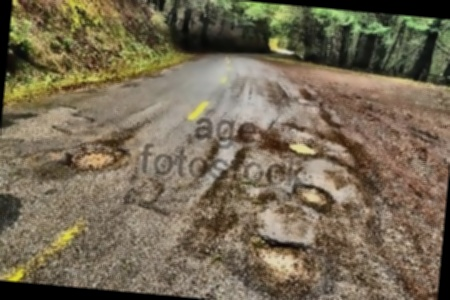pothole: (247, 234, 316, 281), (61, 139, 130, 175), (291, 181, 334, 214), (286, 140, 321, 158)
